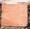redbrick: (1, 1, 30, 17)
